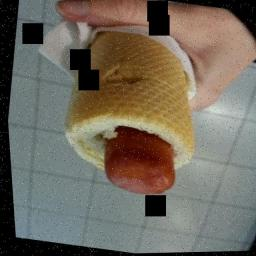hotdog: (47, 20, 210, 204)
